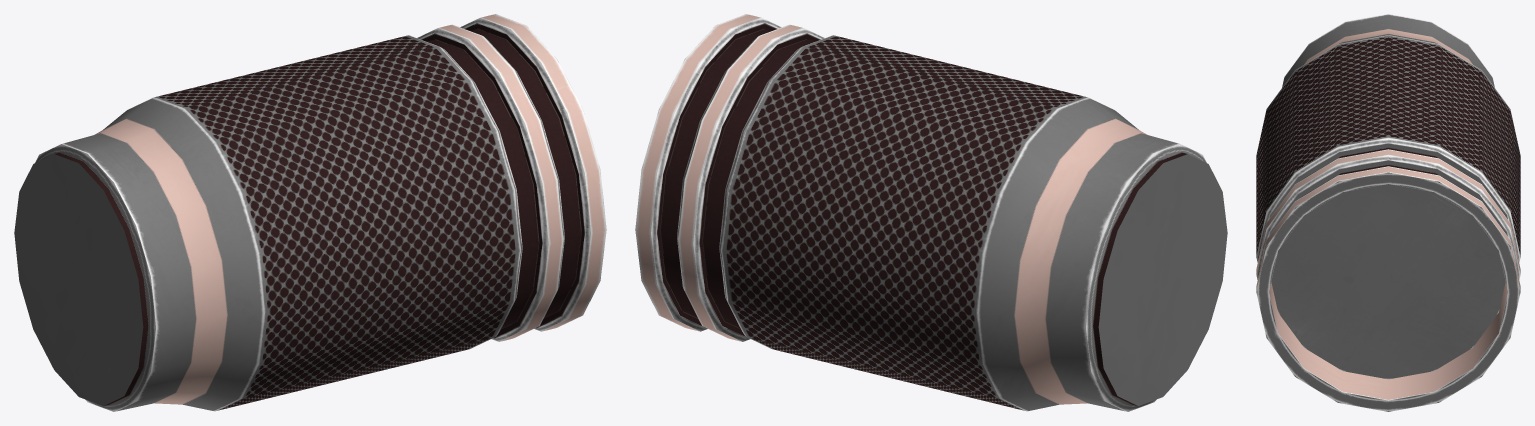
File: guard_15_c_c.glb
3 renders of one model, left to right at view 1: azimuth 30°, elevation 25°; view 2: azimuth 150°, elevation 25°; view 3: azimuth 270°, elevation 25°, orthographic. The views are drawn at different scales.
Visible parts, largest first — view 1: guard_15_c_c_lod0; view 2: guard_15_c_c_lod0; view 3: guard_15_c_c_lod0.
Part boxes in pixels (x1=…): guard_15_c_c_lod0: x1=14, y1=14, x2=606, y2=411; guard_15_c_c_lod0: x1=635, y1=14, x2=1227, y2=411; guard_15_c_c_lod0: x1=1256, y1=14, x2=1520, y2=411.
Size of what is drawn, in the model's own units: 0.0569 by 0.0354 by 0.0354.
1 material, 1 textured.
